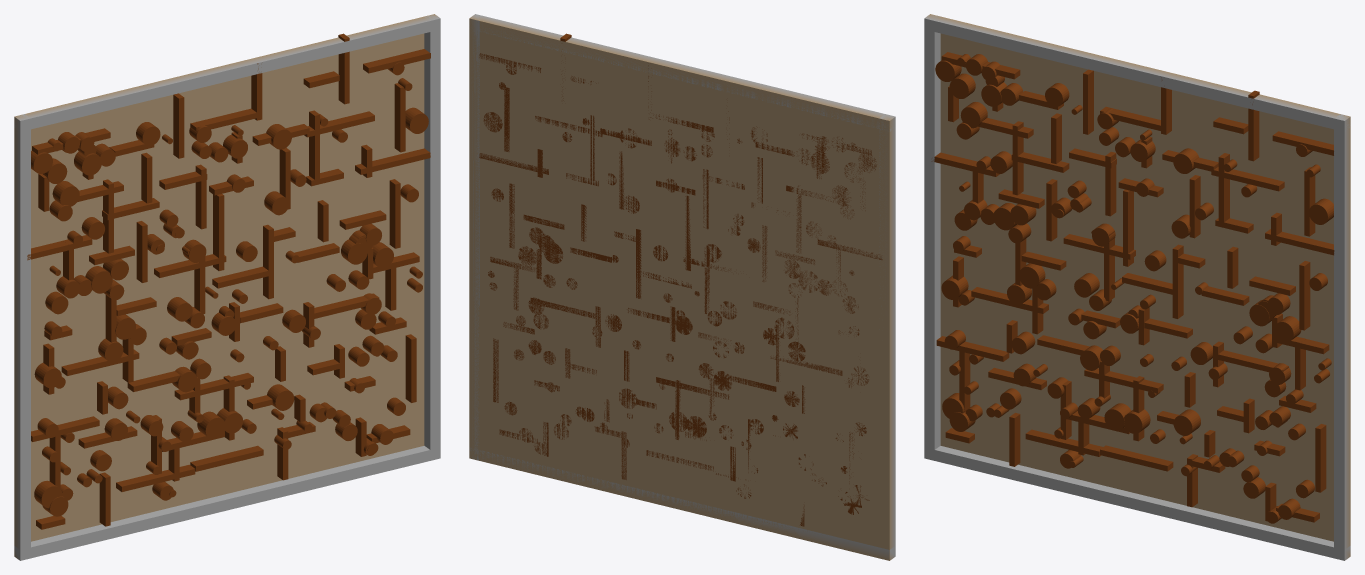
File: mesh_partition_forest.dae
3 renders of one model, left to right at view 1: azimuth 30°, elevation 25°; view 2: azimuth 150°, elevation 25°; view 3: azimuth 330°, elevation 25°, orthographic.
Visible parts, largest first — view 1: node; view 2: node; view 3: node.
Part boxes in pixels (bbox=[...]): node: bbox=[14, 14, 440, 560]; node: bbox=[469, 14, 895, 560]; node: bbox=[924, 14, 1350, 560].
Bounding box in the file's own units: 80 × 80.46 × 3.
